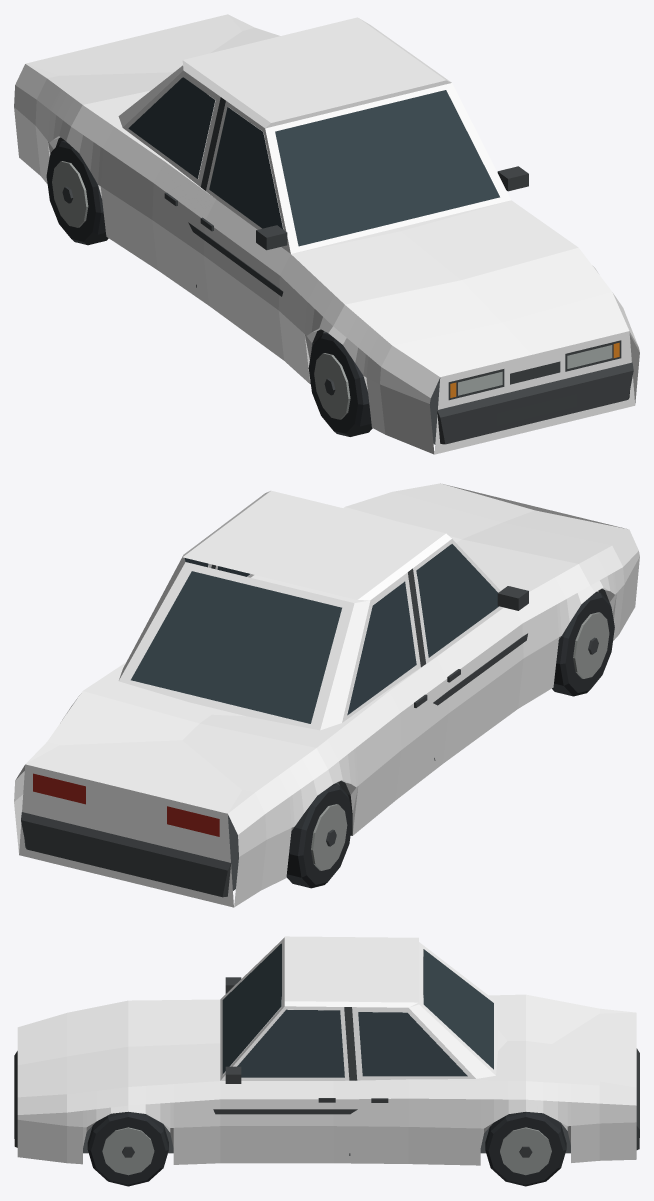
Rendered from hayase_tenrai.glb.
The picture shows the model from 3 angles, top to bottom: view 1: azimuth 30°, elevation 25°; view 2: azimuth 150°, elevation 25°; view 3: azimuth 270°, elevation 25°; orthographic projection. The views are drawn at different scales.
Parts seen in each view (by area): view 1: hayase_tenrai; view 2: hayase_tenrai; view 3: hayase_tenrai.
Part boxes in pixels (<box>): hayase_tenrai: <box>14,14,639,454</box>; hayase_tenrai: <box>14,483,639,907</box>; hayase_tenrai: <box>14,936,639,1186</box>.
Size of the model in its own units: 1.78 by 1.44 by 4.77.
8 materials, 1 textured.
